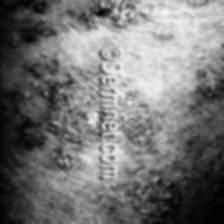Unclassified: (84, 0, 158, 31), (25, 15, 51, 38)
